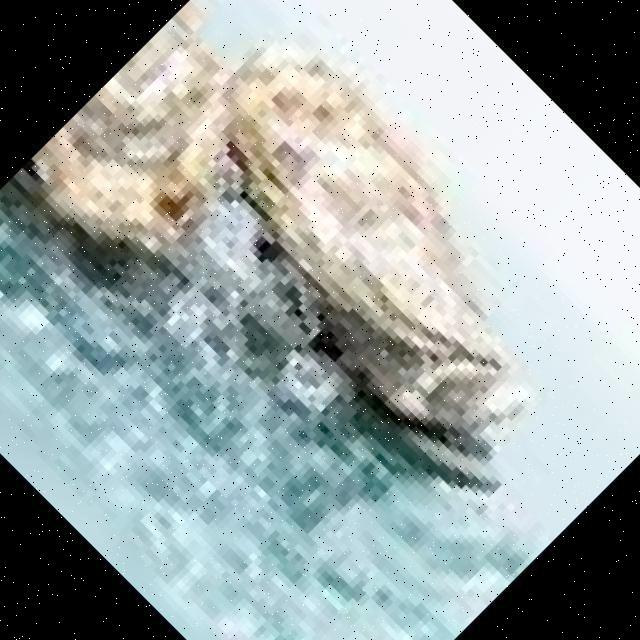Oyster-Closed: (224, 44, 530, 474), (28, 0, 242, 261)
